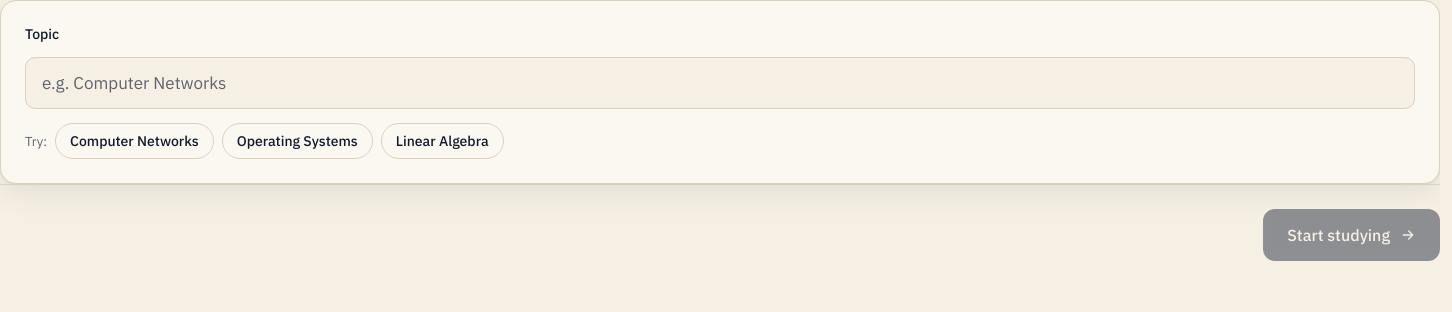
Test: TopicForm › shows the API's copy when the name is taken
This screenshot has width=1452, height=312.
In the field labelled "Topic": (720, 83) [25,57,1415,109], type "linear algebra"
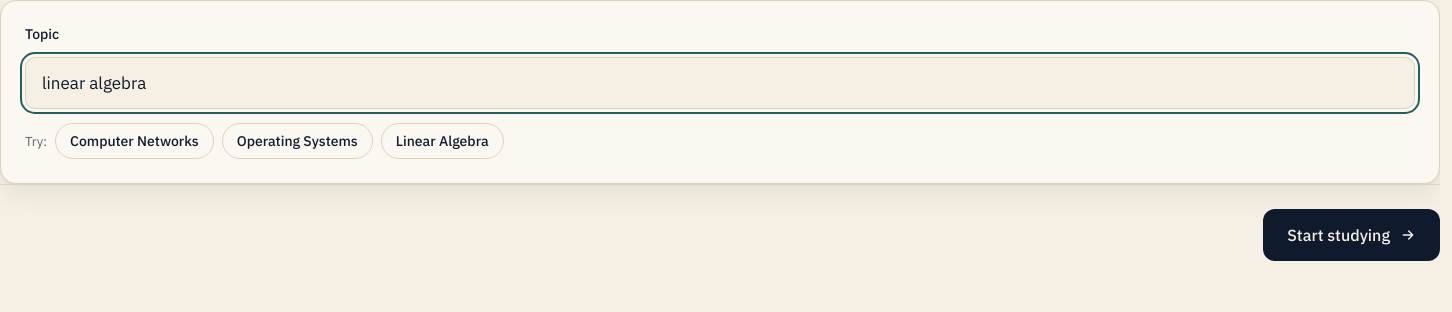
Click the button "Start studying": (1352, 235) [1263,209,1440,261]
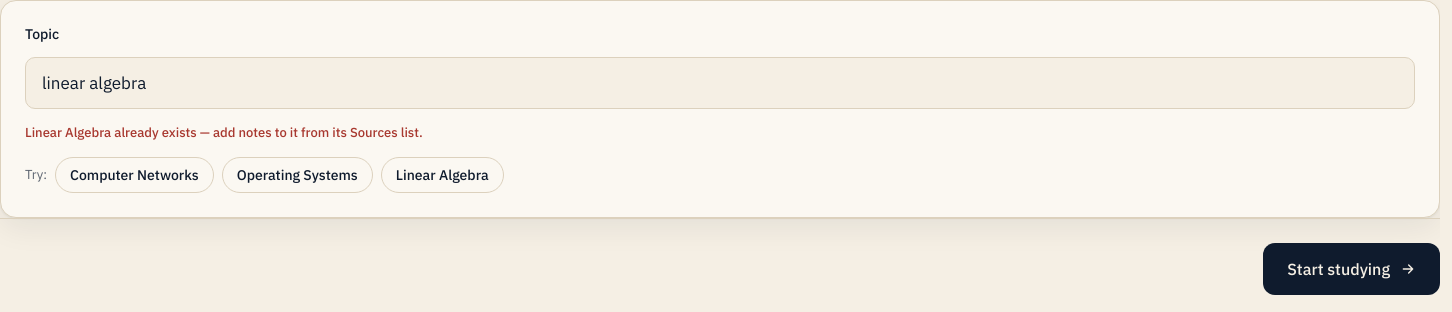
Check: the button "Start studying" is shown, box [1263,242,1440,294]
Check: the text "Linear Algebra already exists — add notes to it from its Sources list." is shown, box [25,124,423,141]
